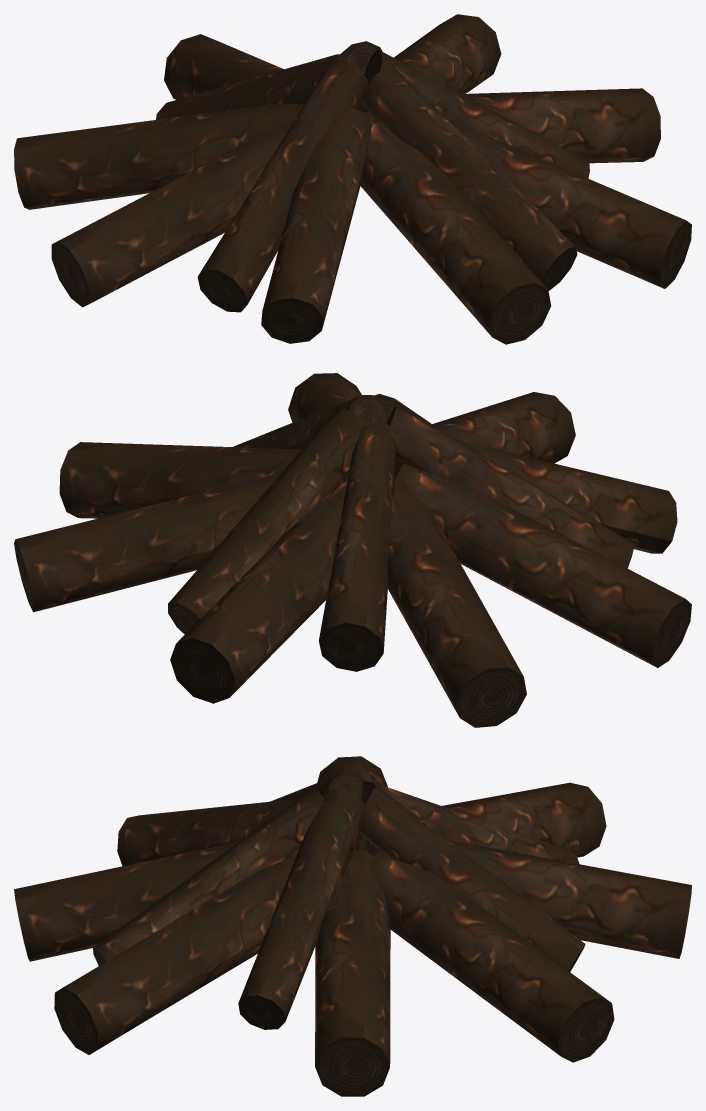
File: CampFire.fbx
3 views of the same model, one above another, from view 1: azimuth 30°, elevation 25°; view 2: azimuth 150°, elevation 25°; view 3: azimuth 270°, elevation 25° (orthographic). The views are drawn at different scales.
Parts seen in each view (by area): view 1: polySurface12; view 2: polySurface12; view 3: polySurface12.
Boxes of the visible parts, bbox=[...] form: polySurface12: bbox=[14, 14, 691, 344]; polySurface12: bbox=[14, 373, 691, 727]; polySurface12: bbox=[14, 756, 691, 1096].
Bounding box in the file's own units: 91.54 × 27.47 × 90.28.
